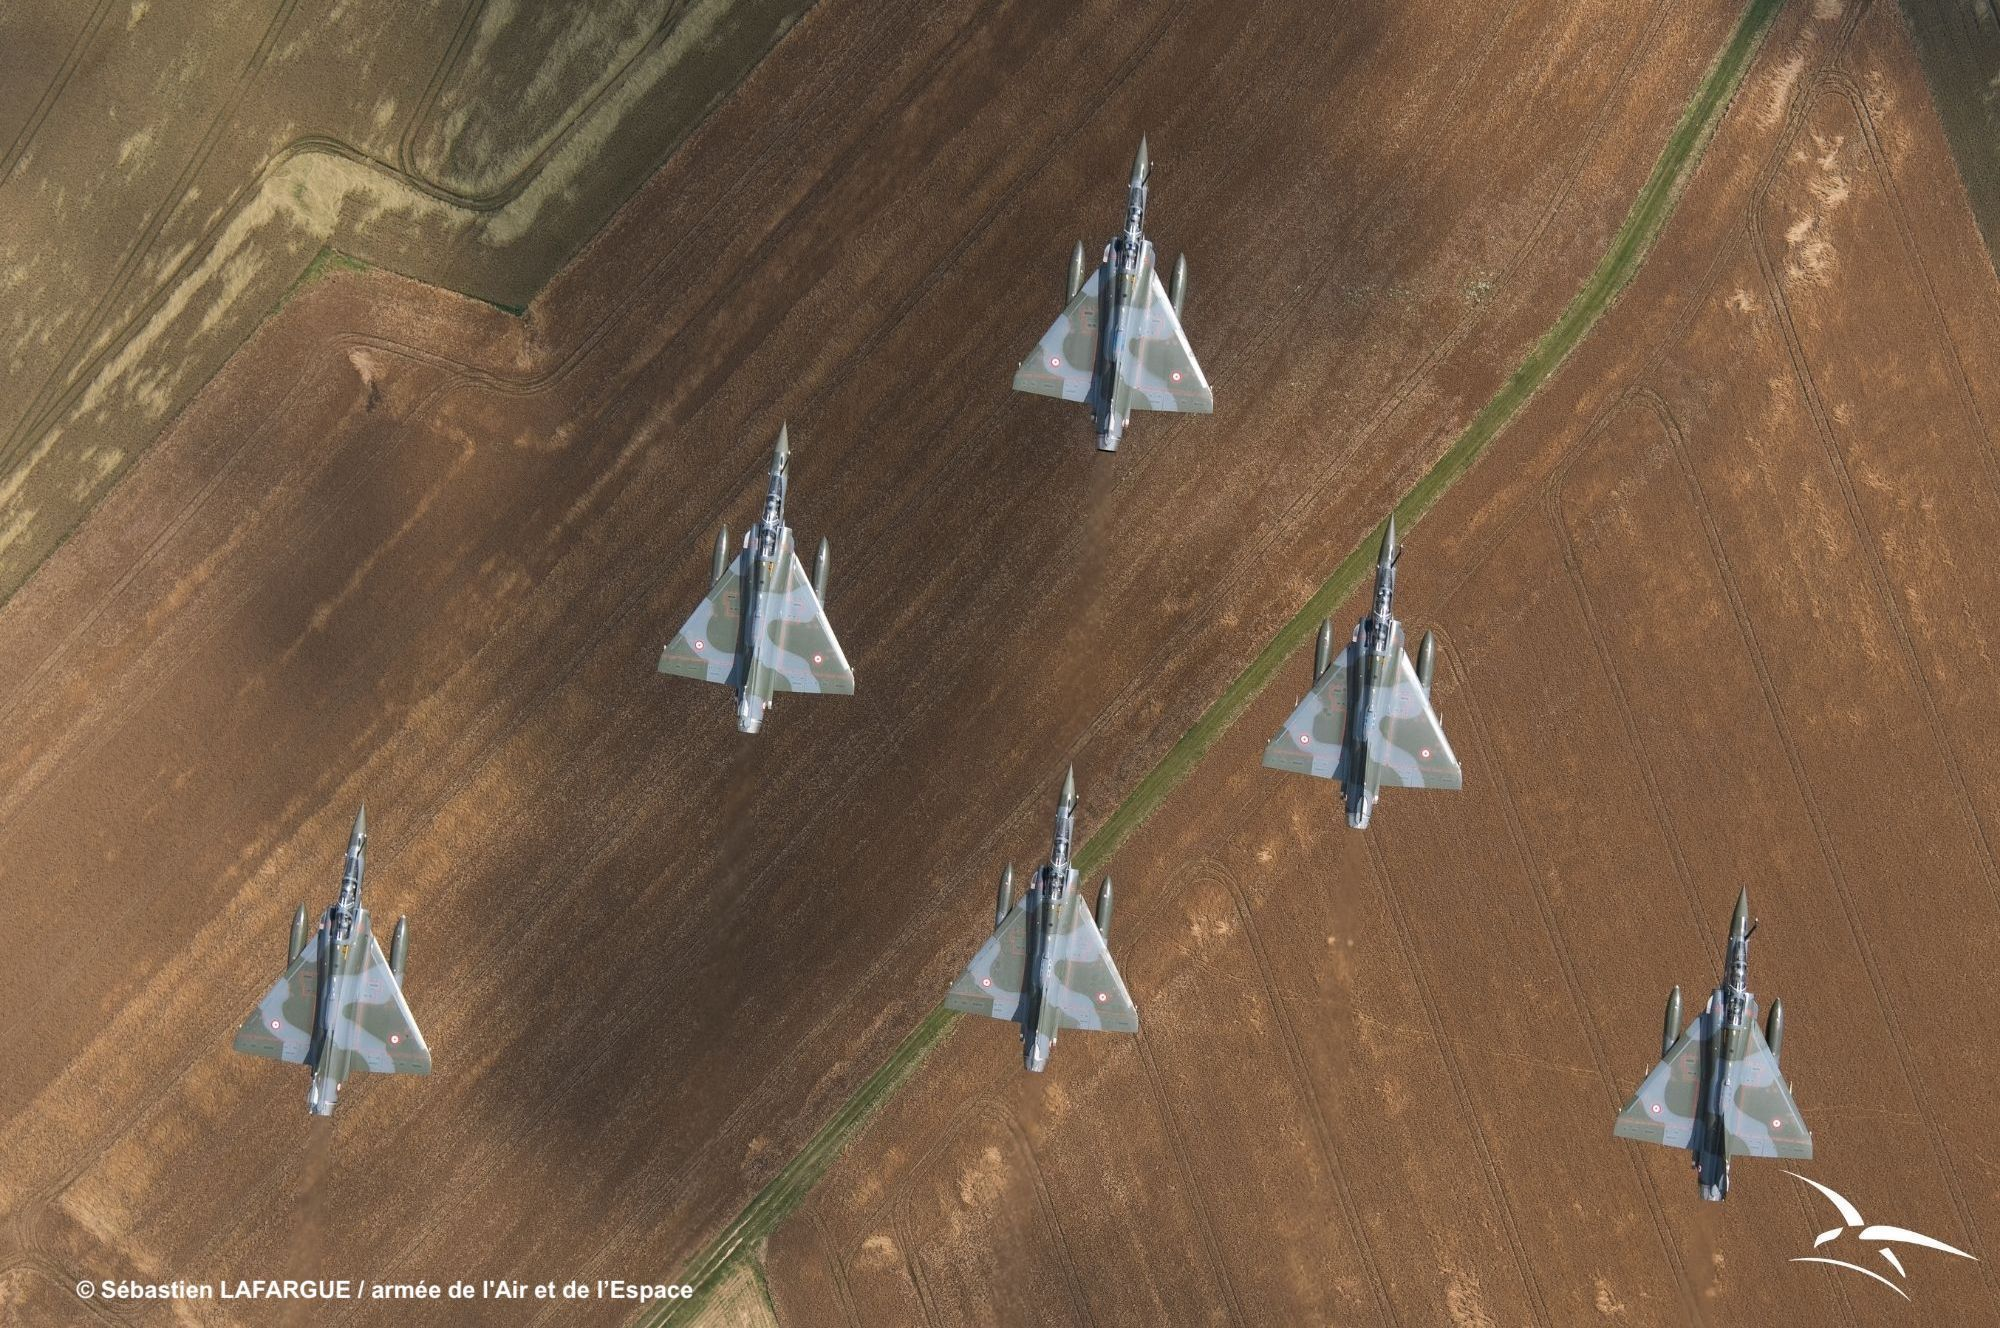Mirage2000: (1010, 130, 1213, 454), (1261, 511, 1464, 831), (1612, 882, 1813, 1203), (231, 800, 433, 1118), (656, 418, 855, 735), (942, 760, 1139, 1073)
